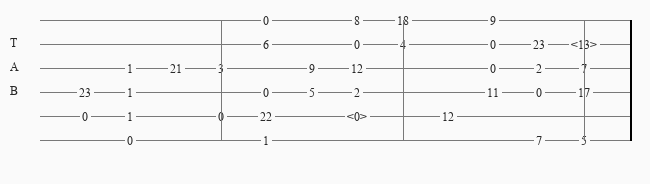0: (82, 110, 92, 123), (127, 134, 137, 147), (218, 110, 228, 123), (263, 14, 273, 27), (263, 86, 273, 99), (354, 38, 364, 51), (490, 62, 500, 75), (490, 38, 500, 51), (536, 86, 546, 99)
1: (127, 86, 137, 99), (127, 62, 137, 75), (127, 110, 137, 123), (263, 134, 273, 147)
11: (487, 86, 503, 99)
12: (351, 62, 367, 75), (442, 110, 458, 123)
17: (578, 86, 594, 99)
18: (397, 14, 413, 27)
2: (354, 86, 364, 99), (536, 62, 546, 75)
21: (170, 62, 186, 75)
22: (260, 110, 276, 123)
23: (79, 86, 95, 99), (533, 38, 549, 51)
3: (218, 62, 228, 75)
4: (400, 38, 410, 51)
5: (309, 86, 319, 99), (581, 134, 591, 147)
6: (263, 38, 273, 51)
7: (536, 134, 546, 147), (581, 62, 591, 75)
8: (354, 14, 364, 27)
9: (309, 62, 319, 75), (490, 14, 500, 27)
harmonic: (571, 38, 601, 51), (347, 110, 371, 123)
